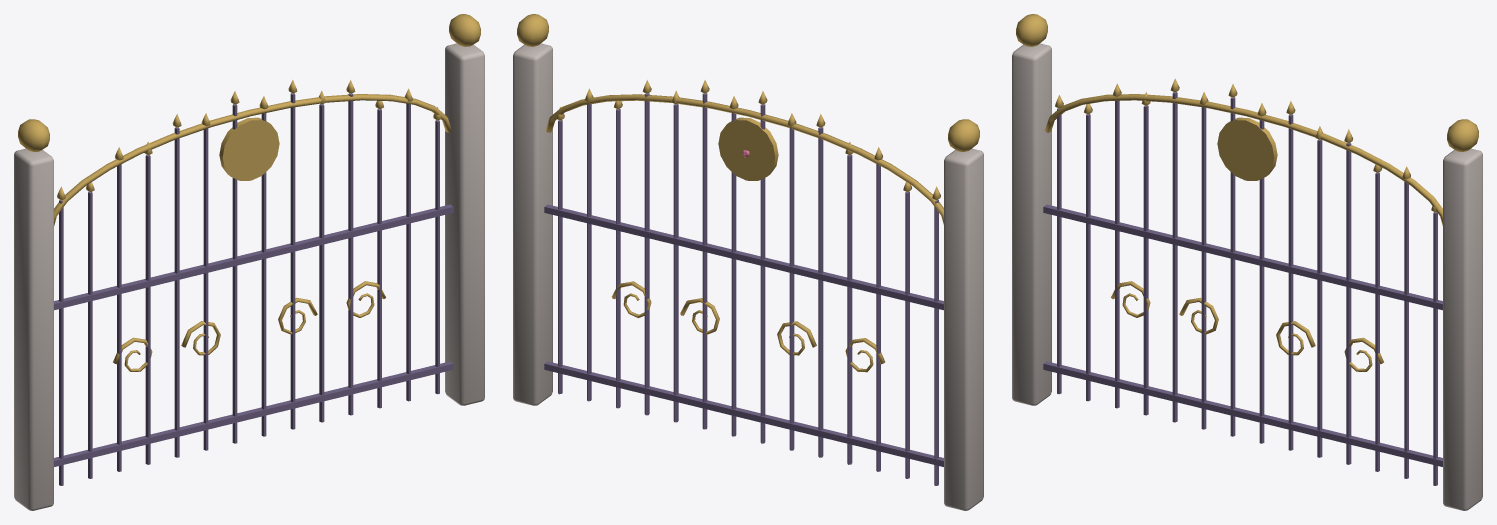
Rendered from gate_iron_gilt.glb.
3 views of the same model, side by side, from view 1: azimuth 30°, elevation 25°; view 2: azimuth 150°, elevation 25°; view 3: azimuth 330°, elevation 25° (orthographic).
Visible parts, largest first — view 1: gate_iron_gilt; view 2: gate_iron_gilt; view 3: gate_iron_gilt.
Boxes of the visible parts, bbox=[...] form: gate_iron_gilt: bbox=[14, 14, 484, 510]; gate_iron_gilt: bbox=[513, 14, 983, 510]; gate_iron_gilt: bbox=[1012, 14, 1482, 510].
Size of what is drawn, in the model's own units: 4 by 3.2 by 0.3.
